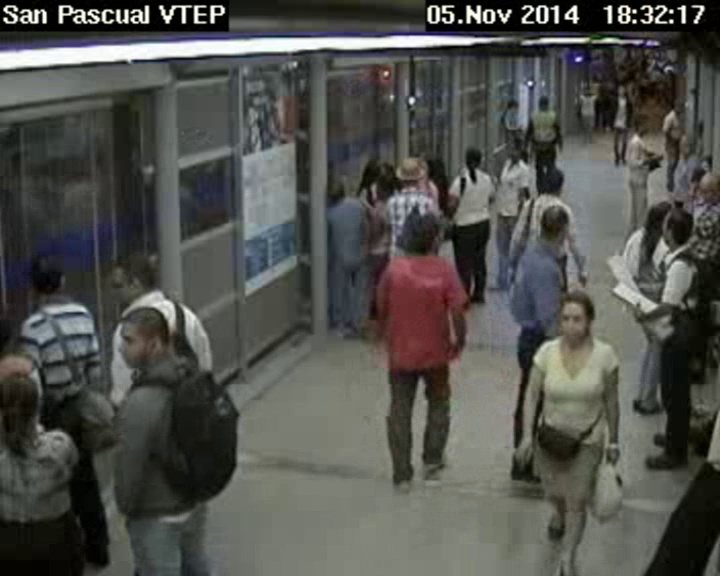person: (112, 306, 179, 366), (103, 246, 160, 304), (553, 287, 607, 344), (1, 361, 46, 428), (400, 205, 448, 256), (28, 247, 68, 301), (539, 201, 576, 251), (643, 197, 677, 250), (660, 203, 692, 248), (392, 156, 429, 189), (543, 165, 572, 200), (424, 157, 453, 189), (323, 170, 350, 203), (360, 153, 382, 189), (461, 142, 487, 172), (696, 170, 720, 202), (633, 108, 653, 140), (503, 139, 525, 165), (675, 131, 697, 156), (536, 88, 553, 115), (375, 178, 398, 196), (505, 96, 520, 111), (670, 95, 684, 111), (615, 82, 626, 96), (581, 84, 595, 95)
